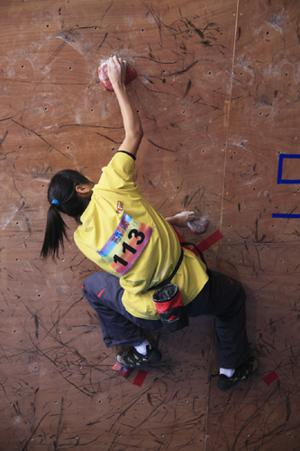person: (43, 55, 257, 390)
